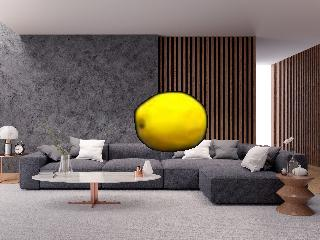lemon: (135, 92, 206, 151)
